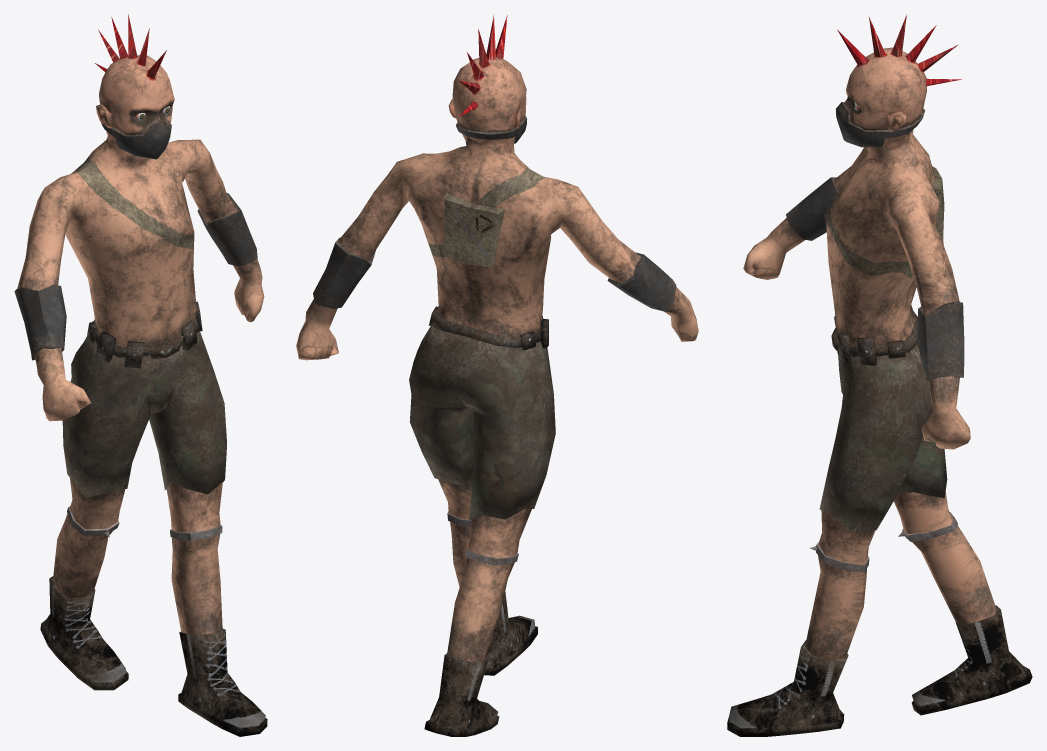
File: Anim_andar_npc2.0034.obj
3 renders of one model, left to right at view 1: azimuth 30°, elevation 25°; view 2: azimuth 150°, elevation 25°; view 3: azimuth 270°, elevation 25°, orthographic. The views are drawn at different scales.
Visible parts, largest first — view 1: Anim_andar_npc2; view 2: Anim_andar_npc2; view 3: Anim_andar_npc2.
Part boxes in pixels (x1,y1,x2,y2): Anim_andar_npc2: [14, 14, 267, 736]; Anim_andar_npc2: [296, 15, 698, 736]; Anim_andar_npc2: [727, 14, 1032, 736].
Size of the model in its own units: 4.8 by 10.2 by 4.02.
